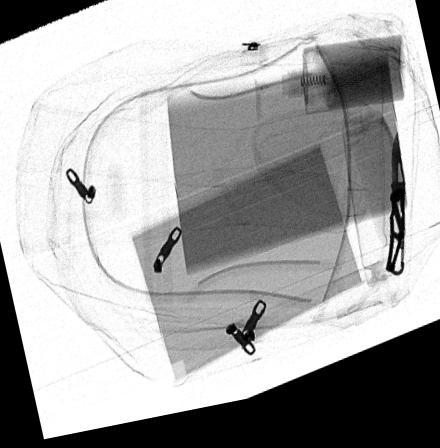Knife: (383, 144, 405, 293)
